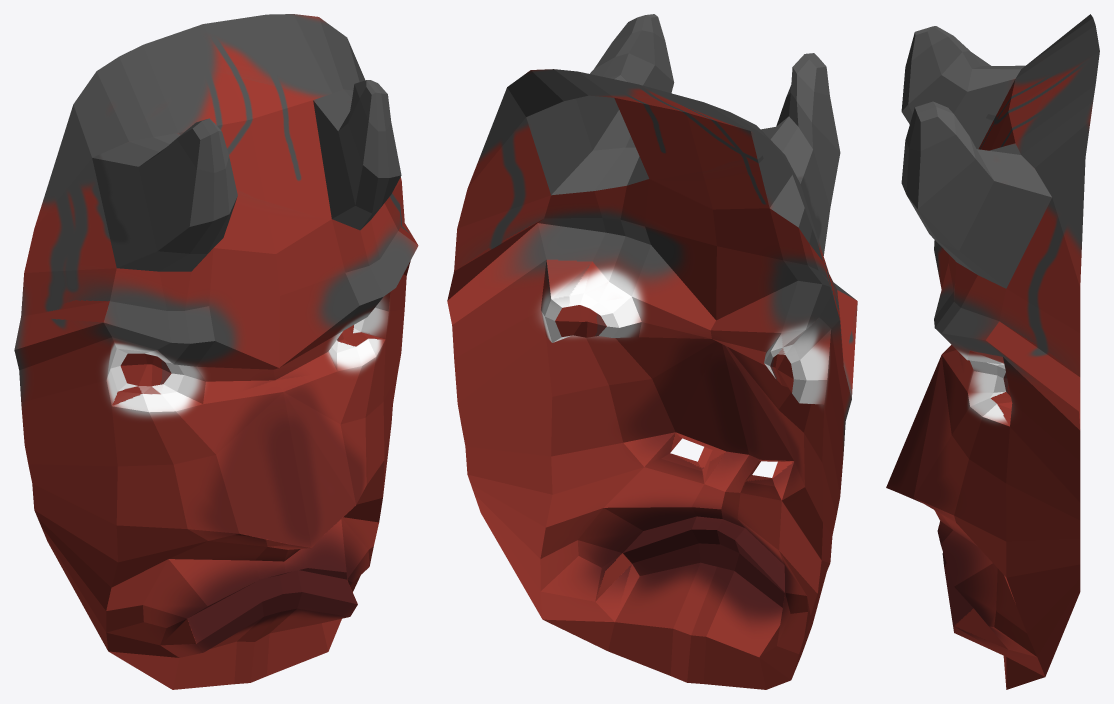
File: MASCARA_COM_CHIFRE 1.fbx
The picture shows the model from 3 angles, left to right: view 1: azimuth 30°, elevation 25°; view 2: azimuth 150°, elevation 25°; view 3: azimuth 270°, elevation 25°; orthographic projection. The views are drawn at different scales.
Parts seen in each view (by area): view 1: Plane; view 2: Plane; view 3: Plane.
Part boxes in pixels (box(x1,y1,x2,y2)): Plane: box(14, 14, 418, 689); Plane: box(447, 14, 857, 689); Plane: box(886, 14, 1099, 689).
Bounding box in the file's own units: 1173 × 1755 × 555.
1 material, 1 textured.
